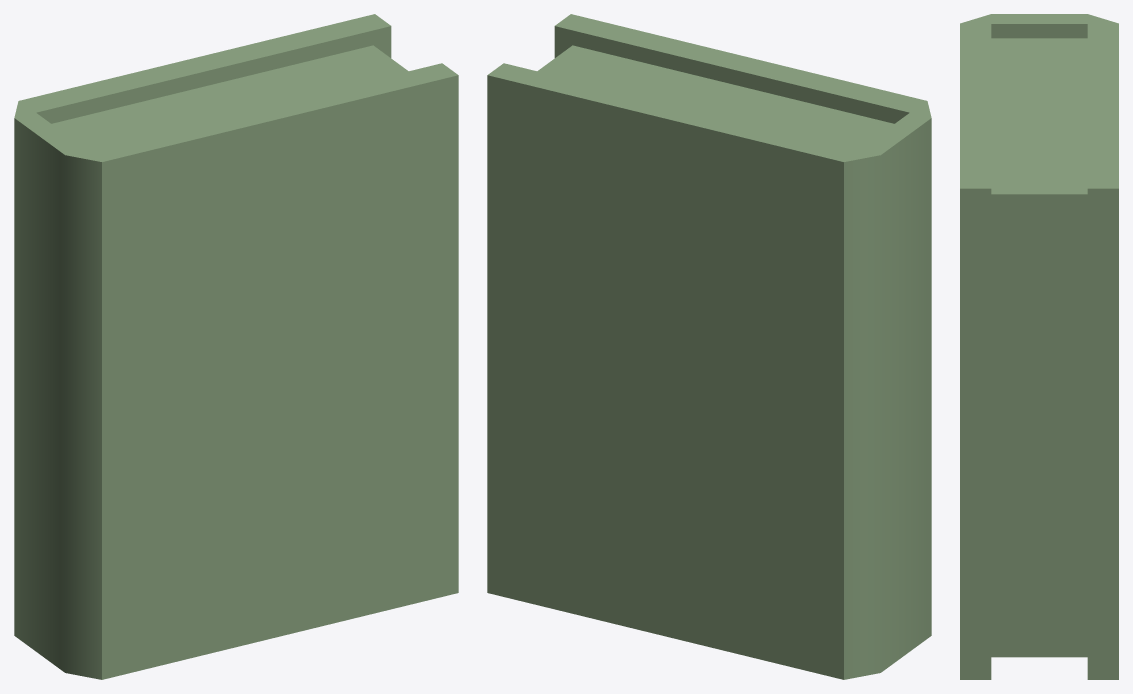
File: Book_V08.fbx
3 views of the same model, side by side, from view 1: azimuth 30°, elevation 25°; view 2: azimuth 150°, elevation 25°; view 3: azimuth 270°, elevation 25° (orthographic). The views are drawn at different scales.
Visible parts, largest first — view 1: Book_V8; view 2: Book_V8; view 3: Book_V8.
Part boxes in pixels (x1=…): Book_V8: x1=14, y1=14, x2=458, y2=679; Book_V8: x1=487, y1=14, x2=931, y2=679; Book_V8: x1=960, y1=14, x2=1118, y2=679.
Size of the model in its own units: 21.97 by 28.83 by 8.44.
